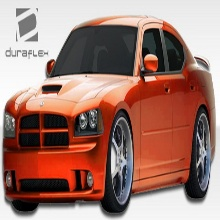no damage: (3, 15, 217, 214)
